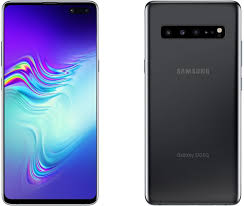samsung: (140, 1, 244, 206), (1, 1, 99, 206)
